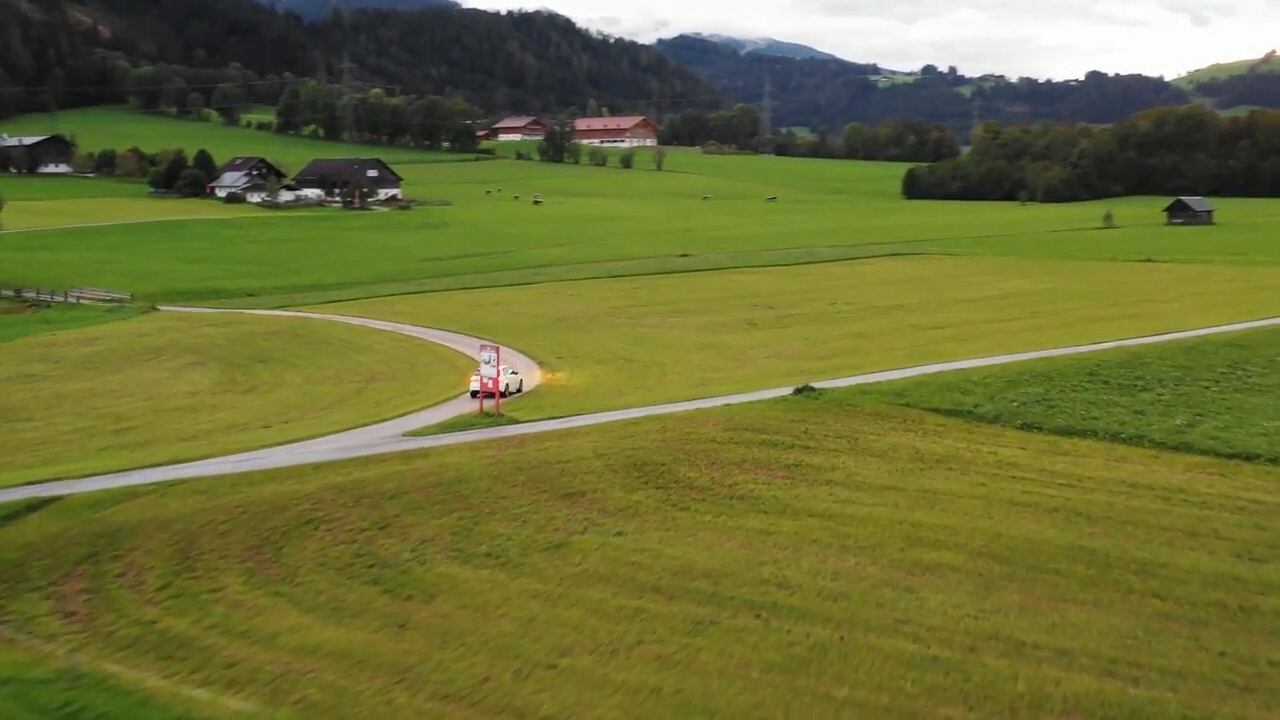araba: (467, 366, 526, 396)
